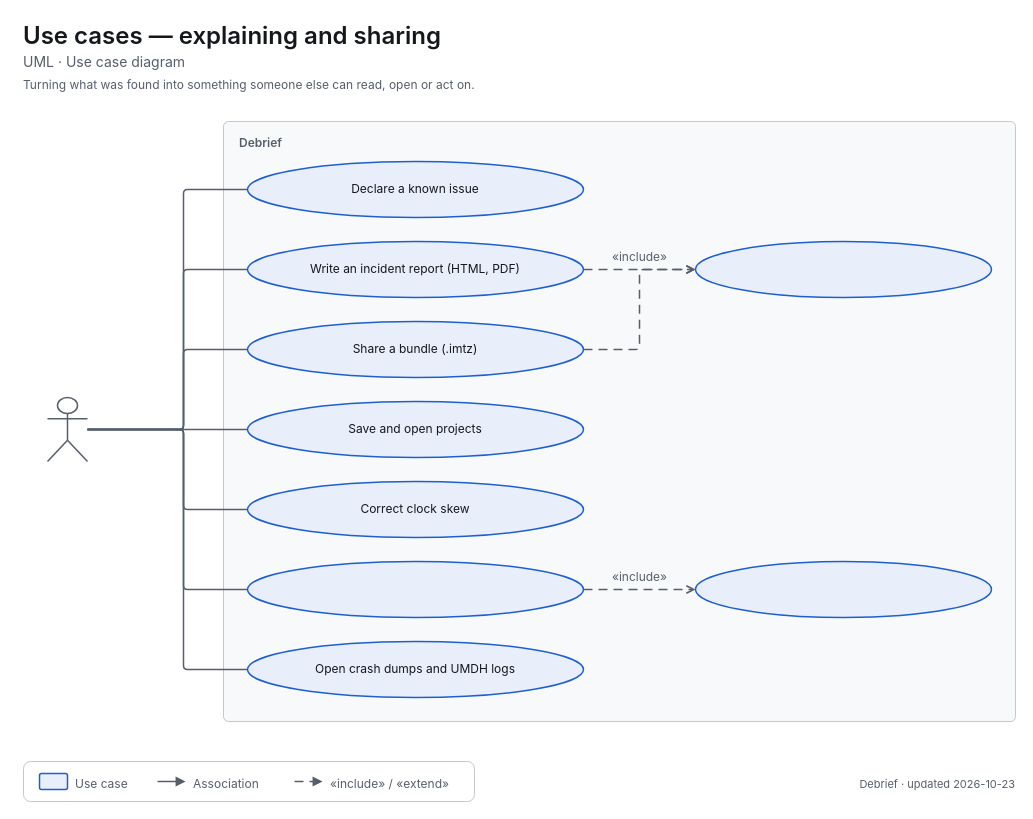
This 1033x819 diagram has some shape labels left out. Each missing label, with the centre of its shape:
Ask the local AI assistant: [415,589]
Redact sensitive data: [843,269]
Set up a local model: [843,589]
Support engineer: [67,429]
